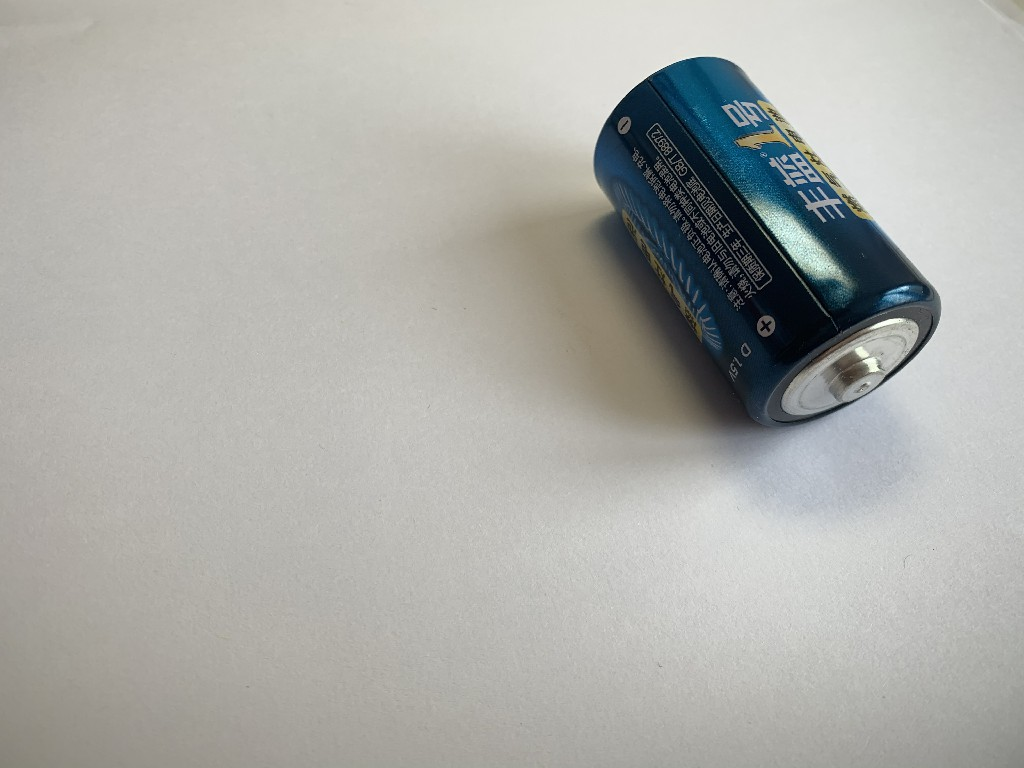charge: (586, 50, 945, 433)
